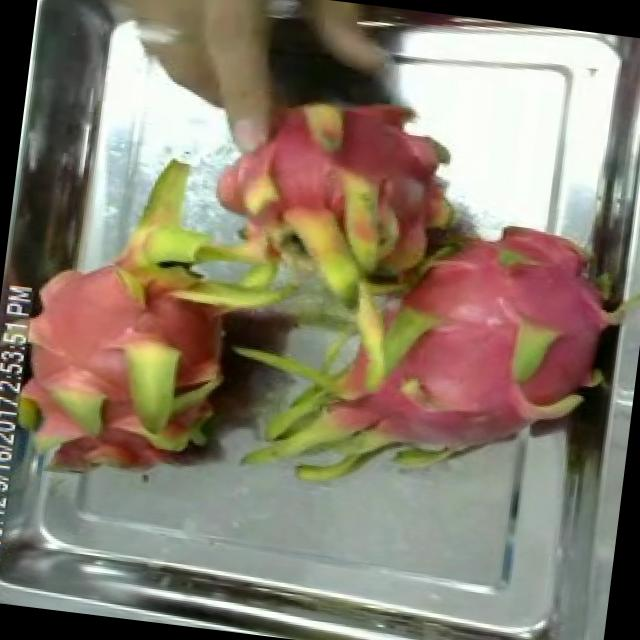Fruit: (475, 207, 602, 295)
